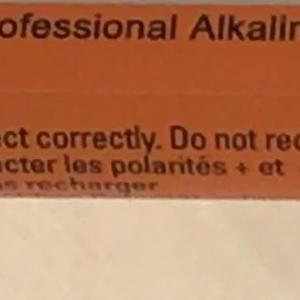ALK: (159, 4, 236, 50)
